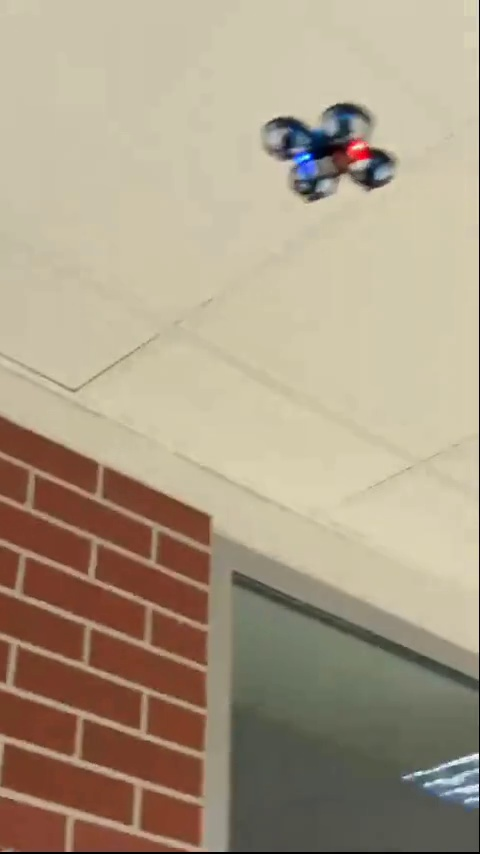drone: (264, 103, 396, 202)
